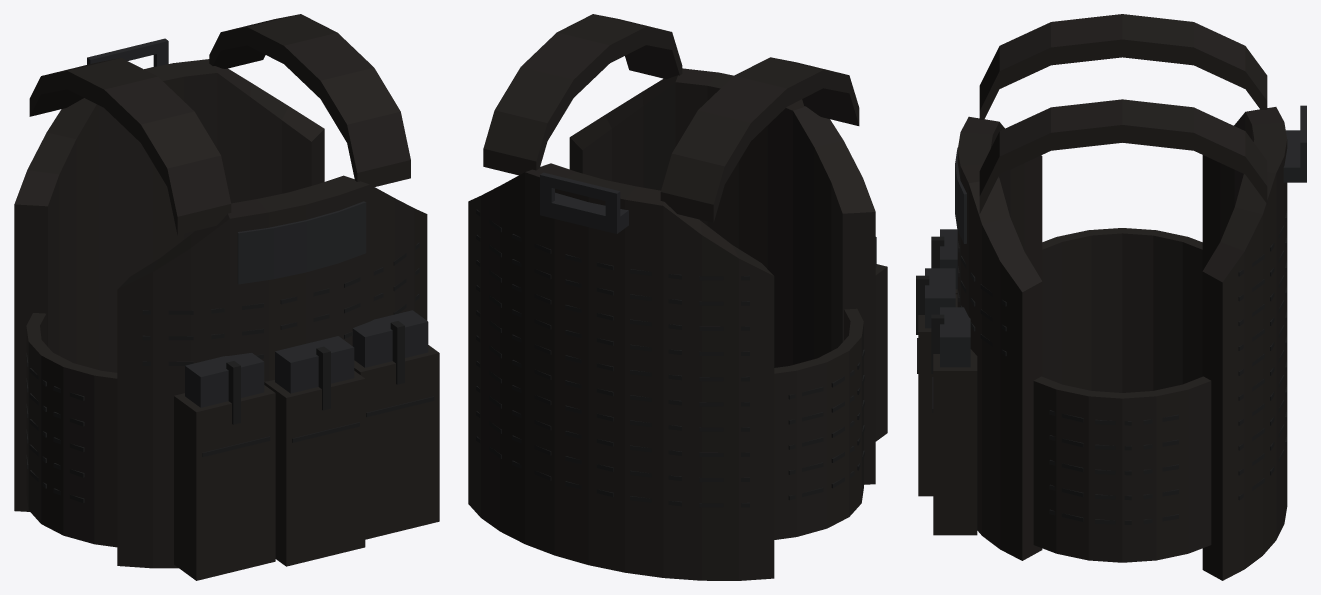
Rendered from lantern-suit.glb.
The picture shows the model from 3 angles, left to right: view 1: azimuth 30°, elevation 25°; view 2: azimuth 150°, elevation 25°; view 3: azimuth 270°, elevation 25°; orthographic projection. The views are drawn at different scales.
Visible parts, largest first — view 1: lantern-suit; view 2: lantern-suit; view 3: lantern-suit.
Part boxes in pixels (x1,y1,x2,y2): lantern-suit: (14,14,439,580); lantern-suit: (468,14,887,580); lantern-suit: (916,14,1306,580).
Size of the model in its own units: 0.3685 by 0.44 by 0.356.
1 material, 1 textured.
